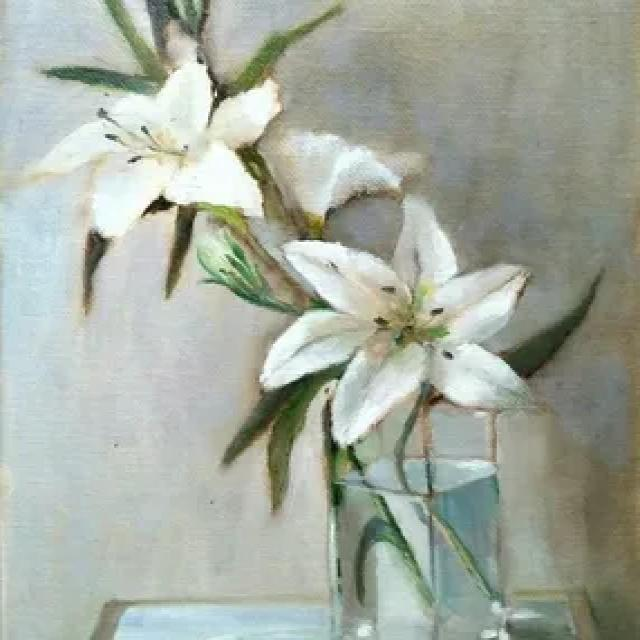lily: (258, 194, 544, 450)
